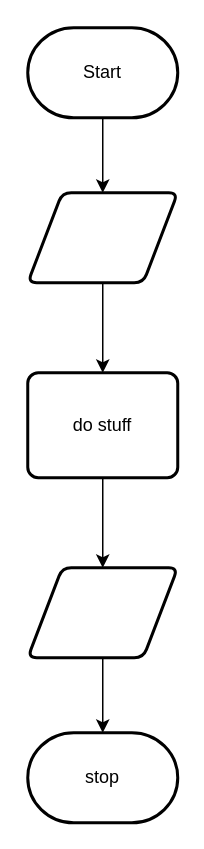
Image size: 204x849. Some labels were removed from this diagram. Each missing label, with the box of its shape:
input: (26, 190, 178, 284)
output: (26, 566, 178, 658)
